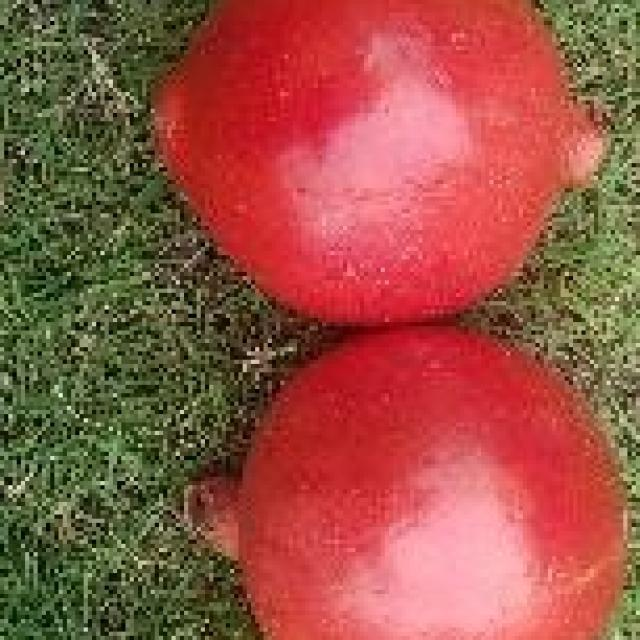Good_Pomegranate-50-60-days: (151, 0, 632, 640)
